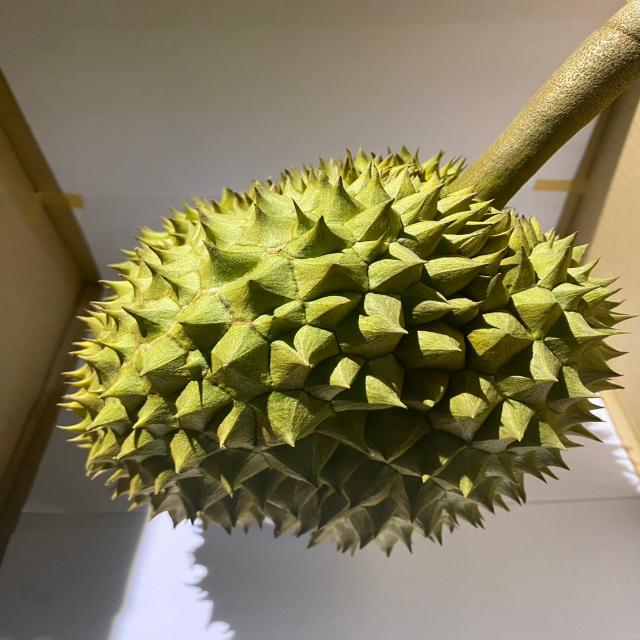immature: (56, 147, 632, 565)
